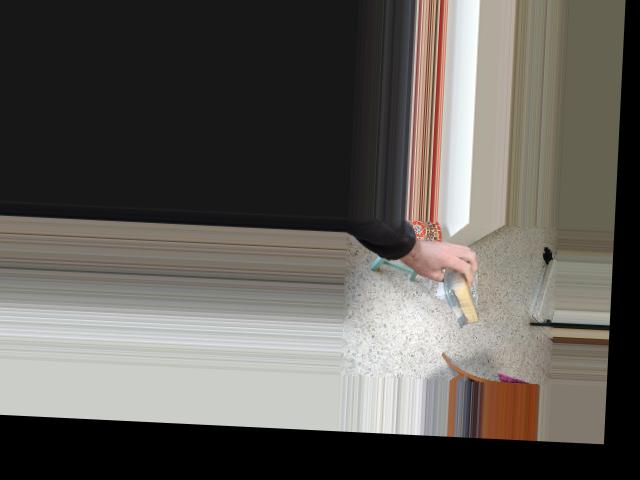cheese: (438, 243, 481, 332)
